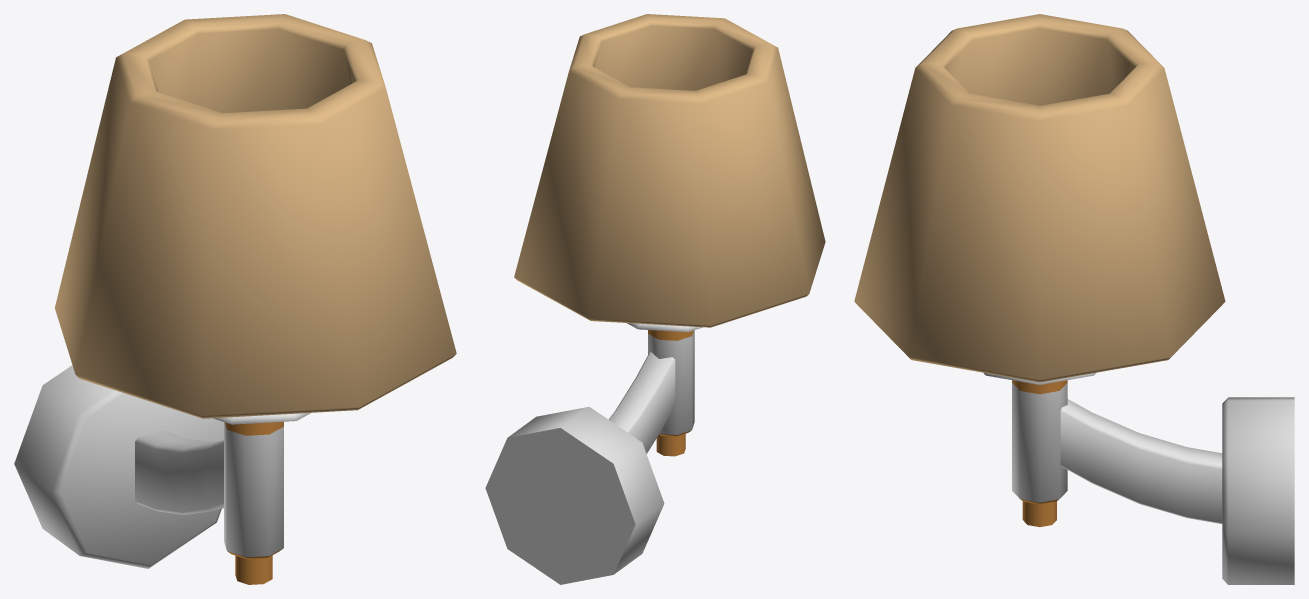
Rendered from lamp_017.fbx.
3 views of the same model, side by side, from view 1: azimuth 30°, elevation 25°; view 2: azimuth 150°, elevation 25°; view 3: azimuth 270°, elevation 25° (orthographic). The views are drawn at different scales.
Visible parts, largest first — view 1: lamp_017; view 2: lamp_017; view 3: lamp_017.
Part boxes in pixels (box(x1,y1,x2,y2)): lamp_017: box(14, 14, 456, 584); lamp_017: box(485, 14, 825, 584); lamp_017: box(854, 14, 1294, 584).
Size of the model in its own units: 51.42 by 61.01 by 78.93.
